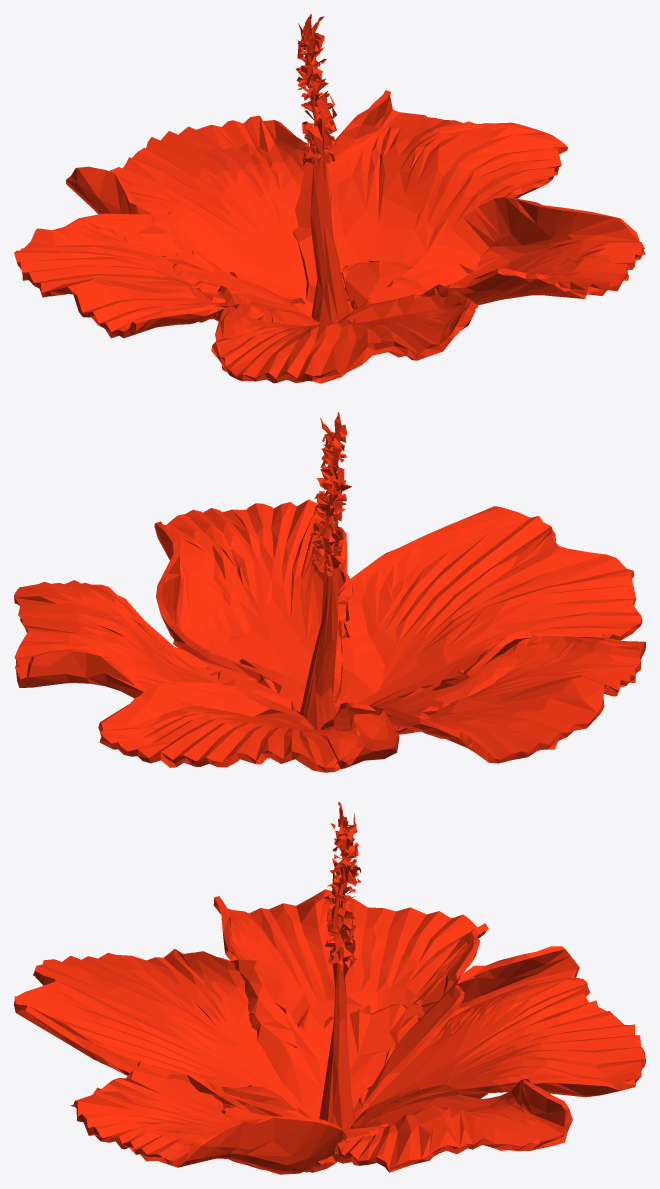
Rendered from 25ArtFlor_hibisco_007escultura_lowpoly_decimate_deform-cast.glb.
3 renders of one model, top to bottom at view 1: azimuth 30°, elevation 25°; view 2: azimuth 150°, elevation 25°; view 3: azimuth 270°, elevation 25°, orthographic. The views are drawn at different scales.
Visible parts, largest first — view 1: simplify_1782502358887 hibiscus; view 2: simplify_1782502358887 hibiscus; view 3: simplify_1782502358887 hibiscus.
Part boxes in pixels (bbox=[...]): simplify_1782502358887 hibiscus: bbox=[14, 14, 645, 383]; simplify_1782502358887 hibiscus: bbox=[14, 412, 645, 772]; simplify_1782502358887 hibiscus: bbox=[14, 801, 645, 1174].
Bounding box in the file's own units: 3.35 × 1.84 × 3.29.
